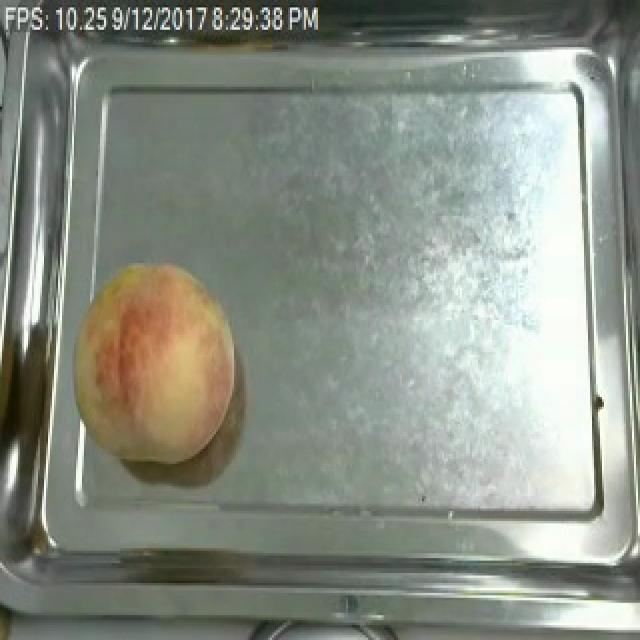Fruit: (50, 250, 246, 469)
